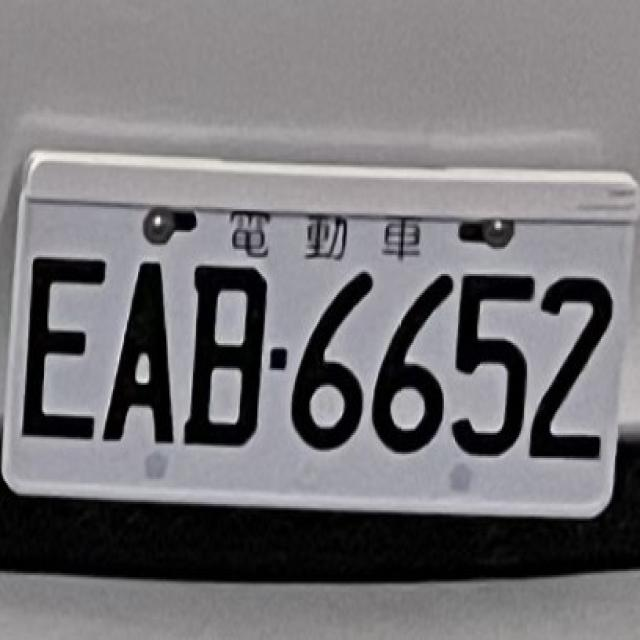license-plate: (6, 134, 634, 516)
